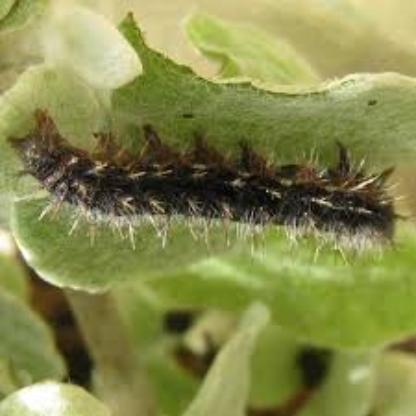oruga: (9, 96, 404, 266)
